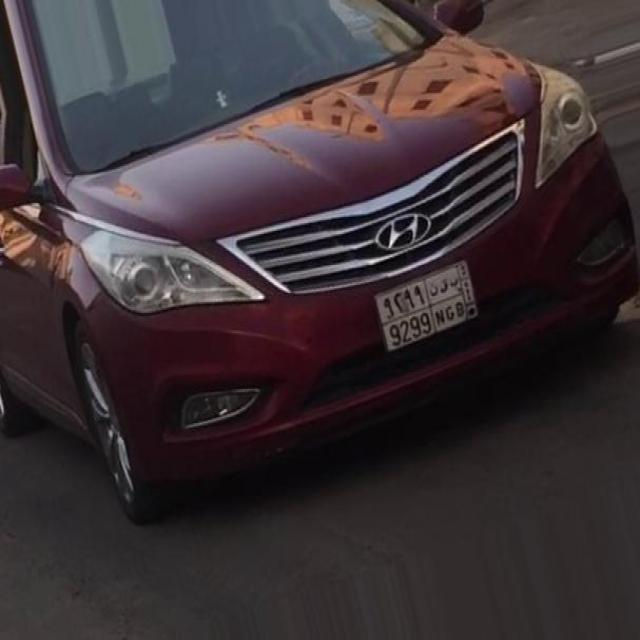Car-plate: (368, 249, 487, 358)
